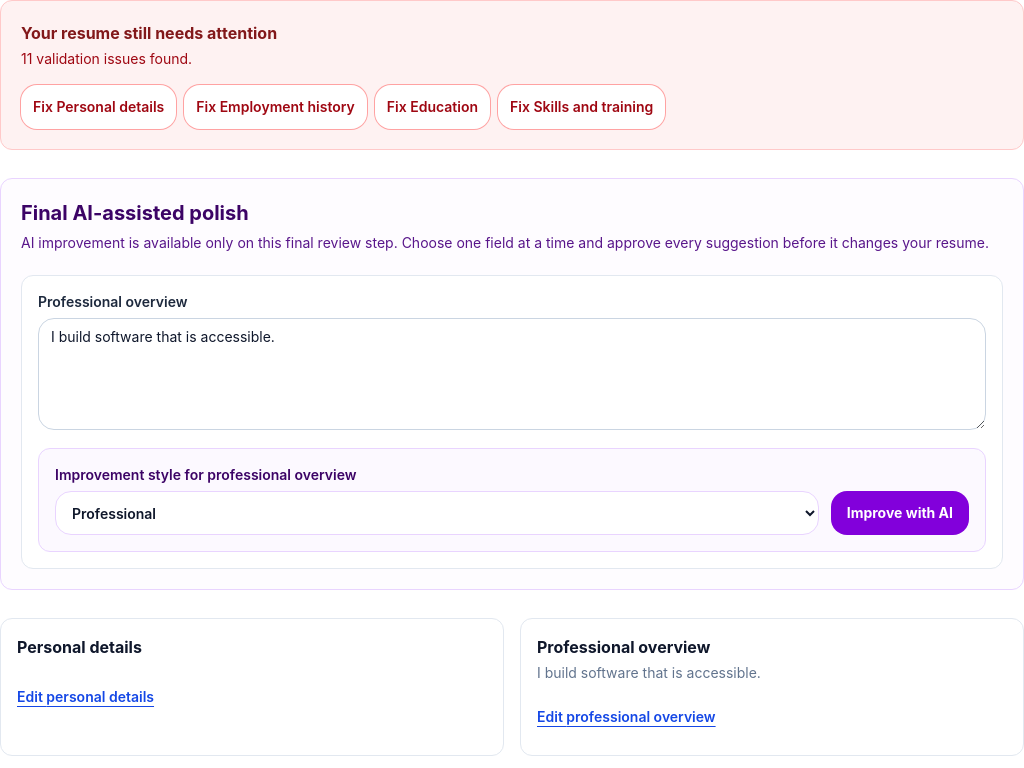
Scenario: controlled AI assistance › requires session consent and sends only the selected field contract
Select "Concise" in the dropdown labelled "Improvement style for professional overview": (437, 513) [55,491,819,535]
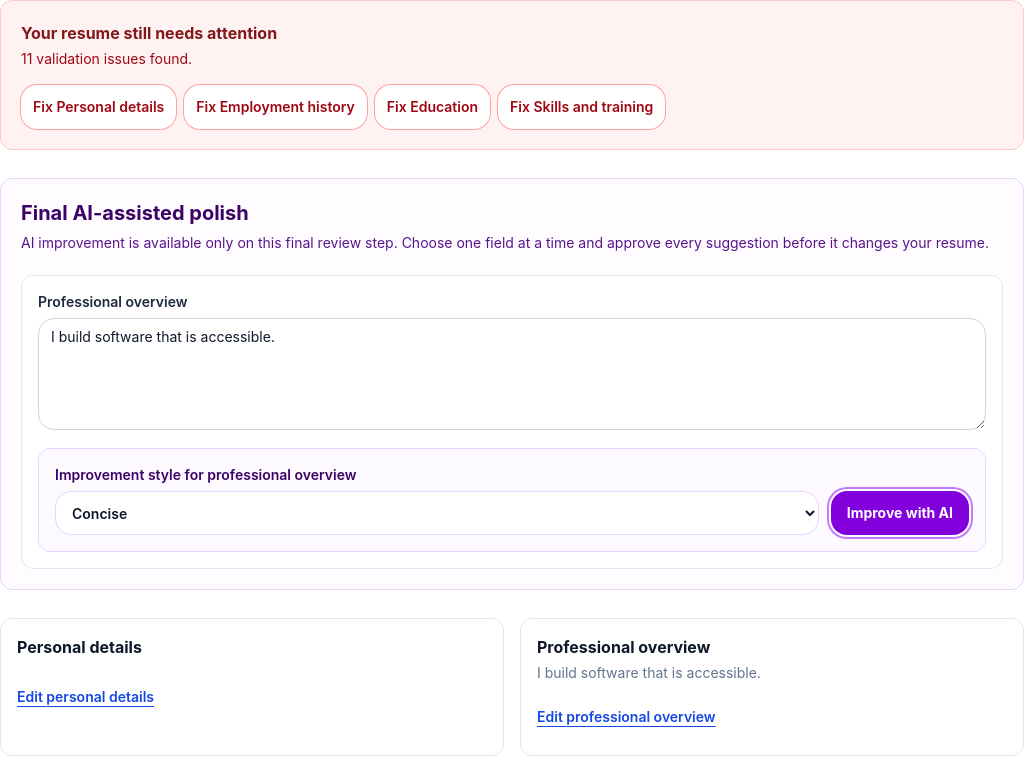
Click the button with aria-label "Improve professional overview with AI": (900, 513) [831,491,969,535]
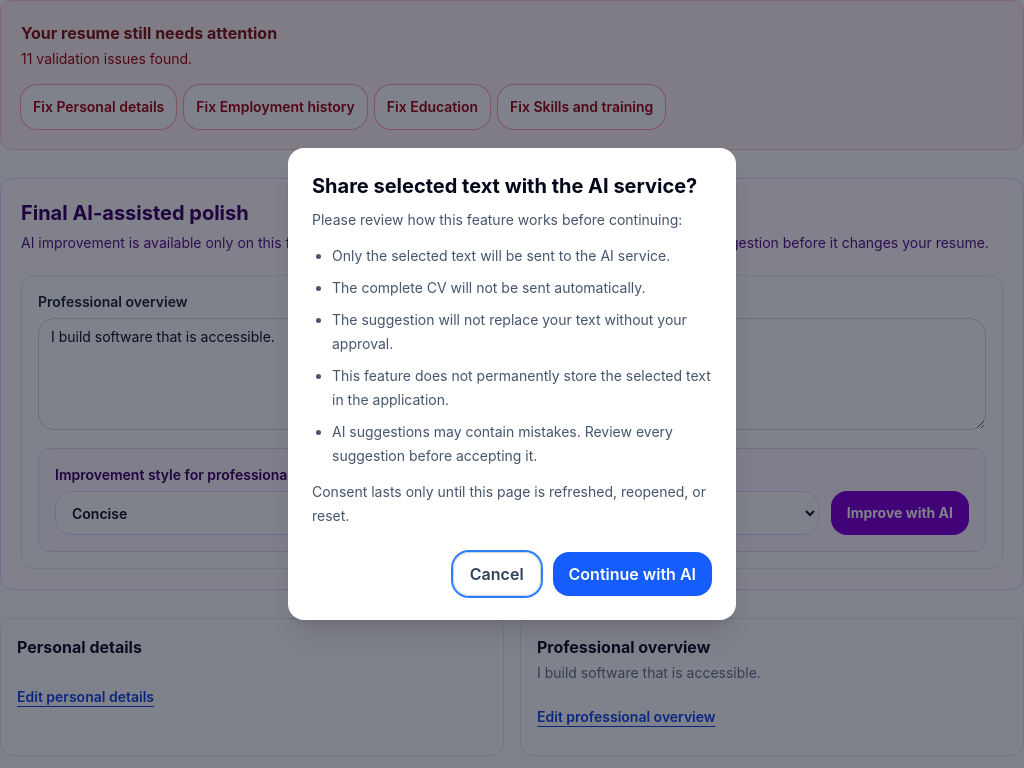
expect the heading "Share selected text with the AI service?" is shown: met, box [312,172,712,200]
expect the list item "The complete CV will not be sent automatically." is shown: met, box [332,279,646,296]
Click the button "Cancel": (497, 574) [453,552,540,596]
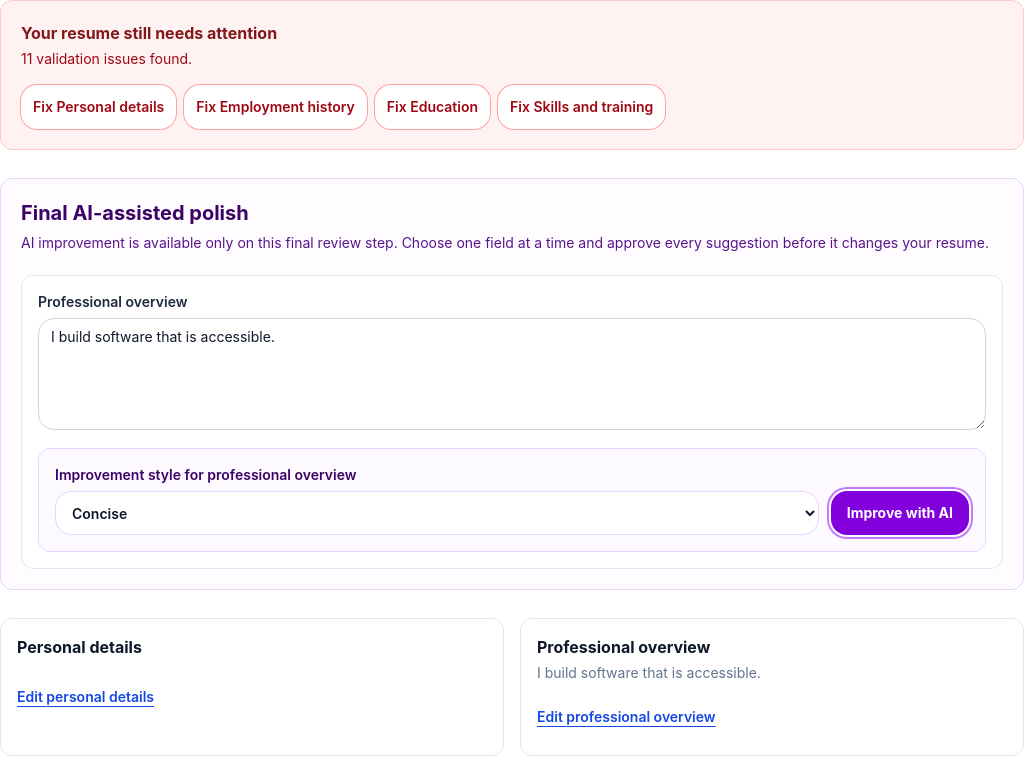
Click the button with aria-label "Improve professional overview with AI": (900, 513) [831,491,969,535]
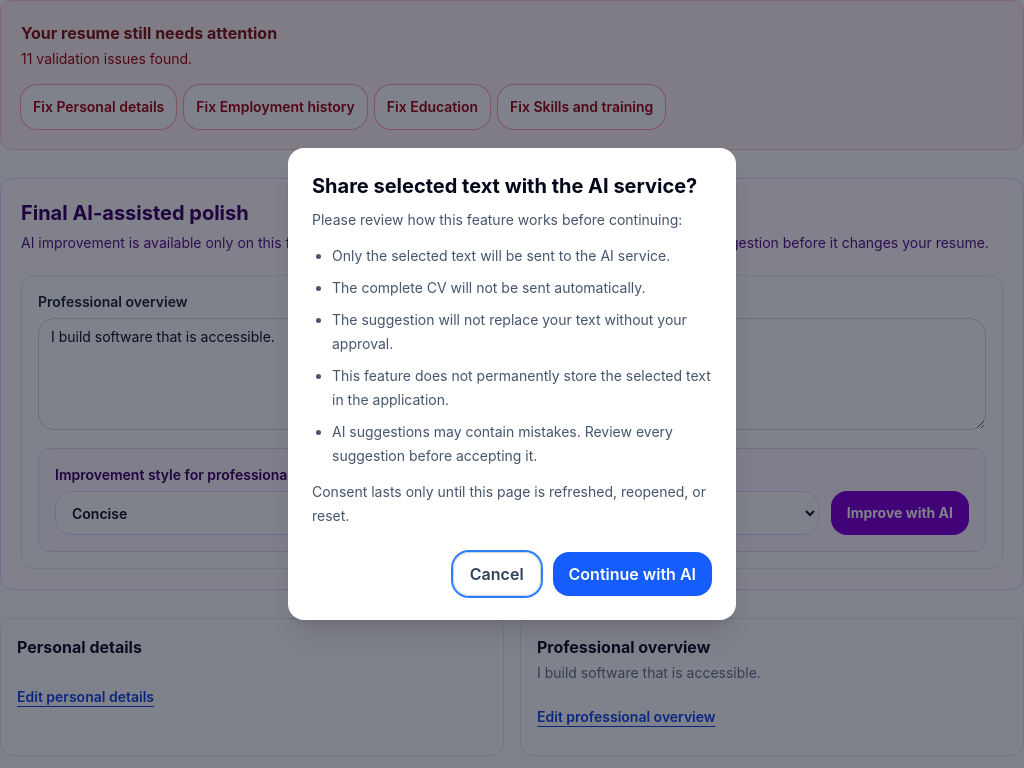
Click the button "Continue with AI": (632, 574) [553,552,712,596]
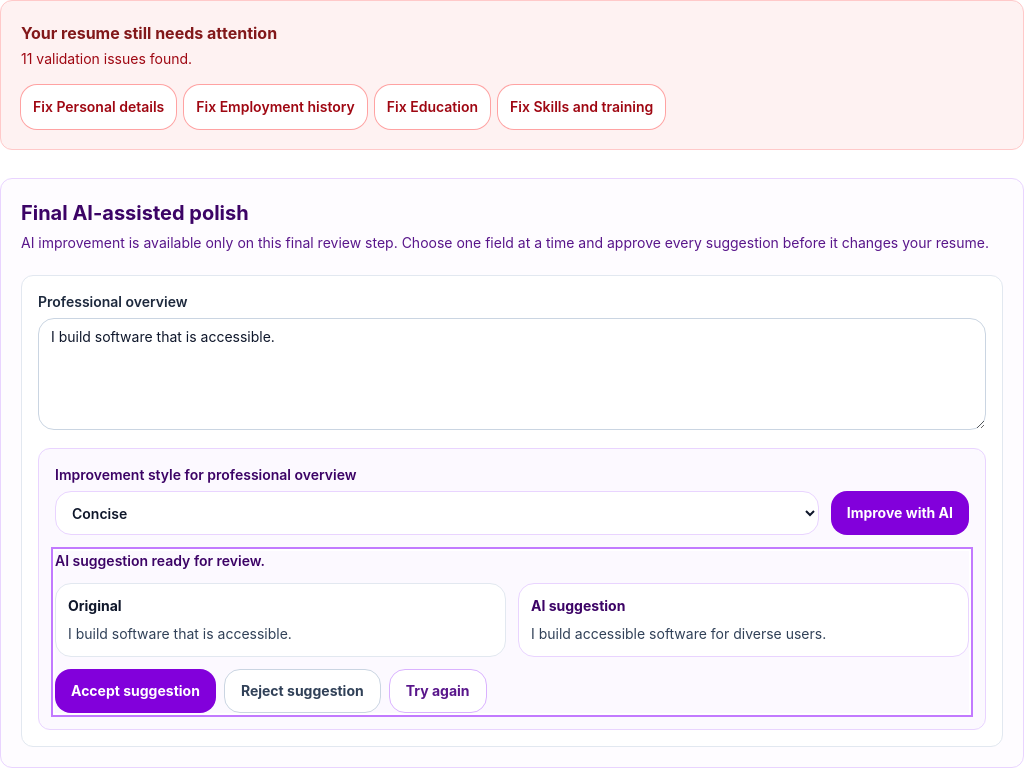
expect the heading "AI suggestion" is shown: met, box [531,597,625,614]
